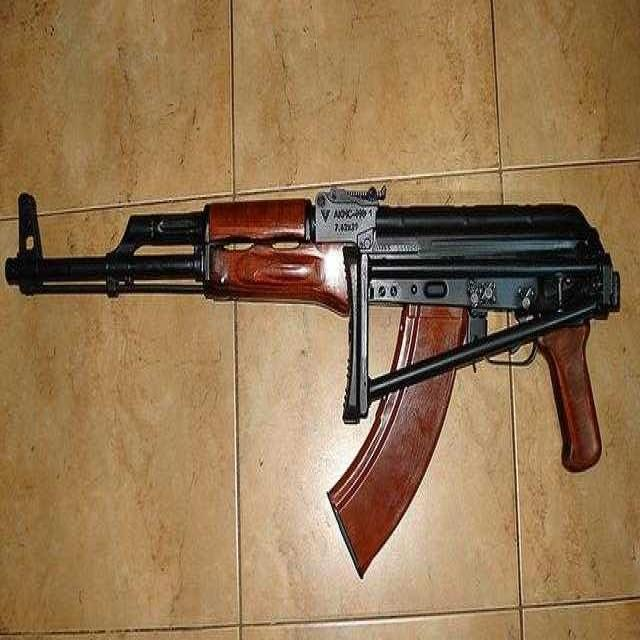heavyweapon: (1, 152, 628, 557)
